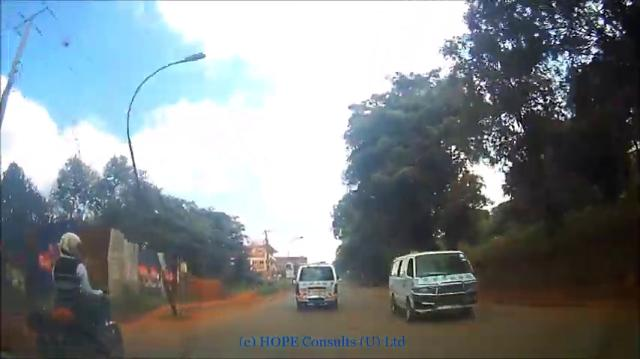van: (386, 249, 477, 321), (295, 262, 342, 307)
